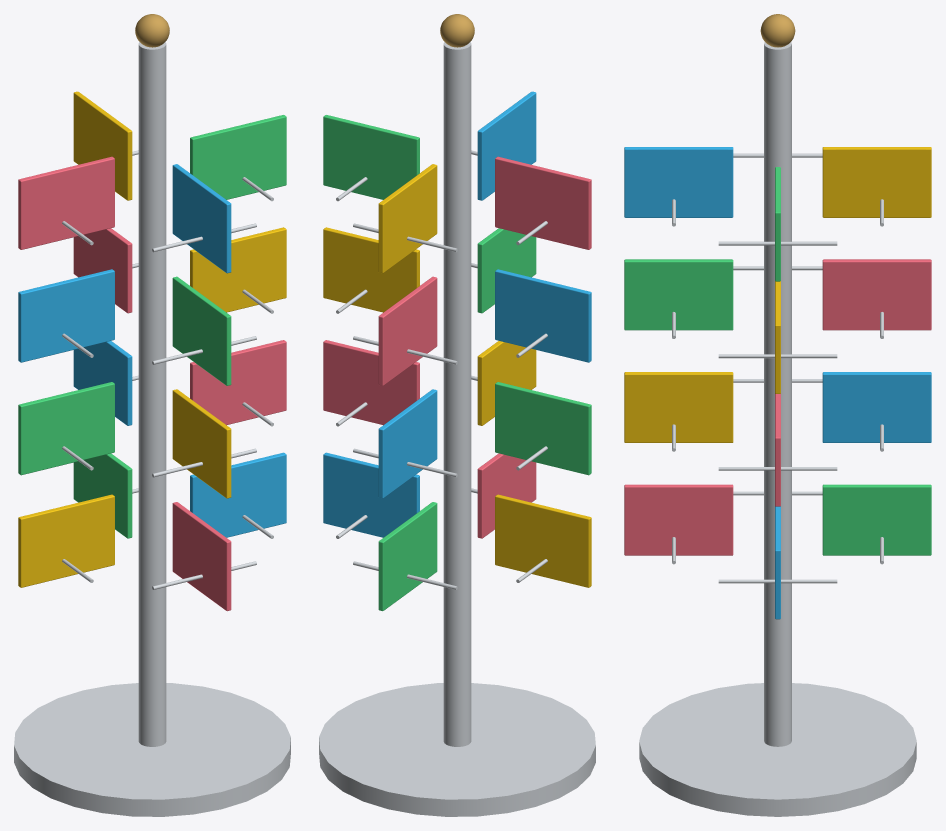
The model's file is wp-tourniquet-a-cartes.glb.
The picture shows the model from 3 angles, left to right: view 1: azimuth 30°, elevation 25°; view 2: azimuth 150°, elevation 25°; view 3: azimuth 270°, elevation 25°; orthographic projection.
Parts seen in each view (by area): view 1: wp-tourniquet-a-cartes; view 2: wp-tourniquet-a-cartes; view 3: wp-tourniquet-a-cartes.
Part boxes in pixels (x1,y1,x2,y2): wp-tourniquet-a-cartes: (14,14,290,816); wp-tourniquet-a-cartes: (319,14,595,816); wp-tourniquet-a-cartes: (624,14,931,816).
Bounding box in the file's own units: 0.6 × 1.6 × 0.6.
